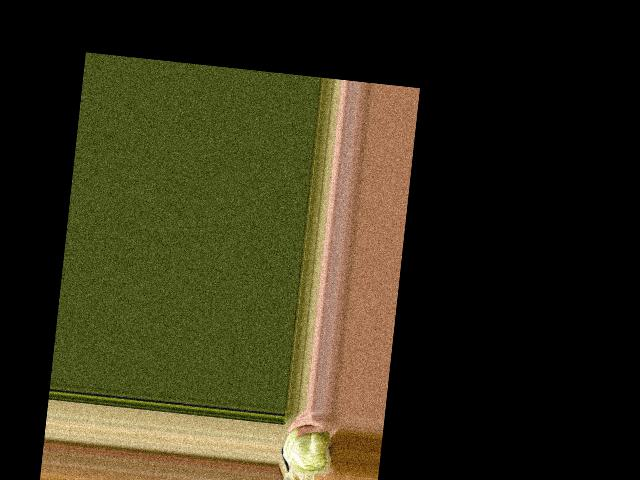lettuce: (277, 422, 337, 480)
